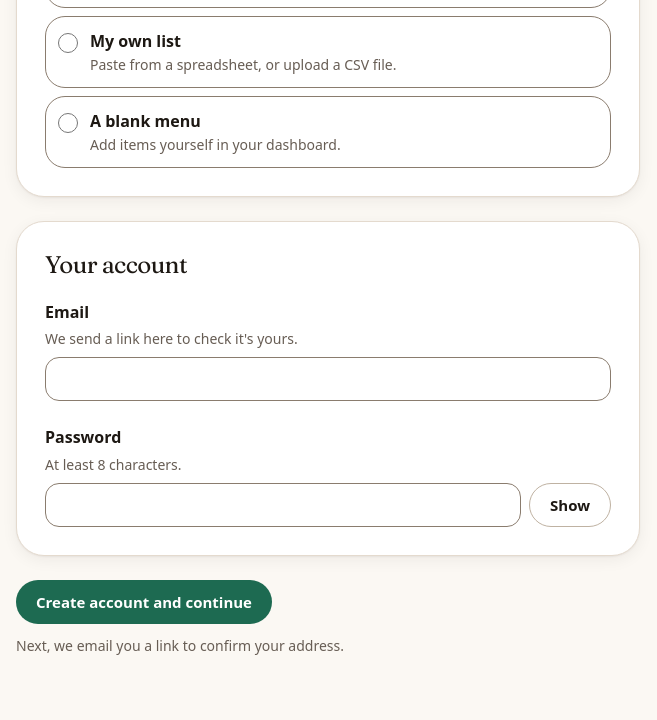
signing up › names what is missing and takes the focus to the first of it
The image size is (657, 720).
(page scrolled)
Click the button "Create account and continue" at (144, 602), box [16,580,272,624]
(page scrolled)
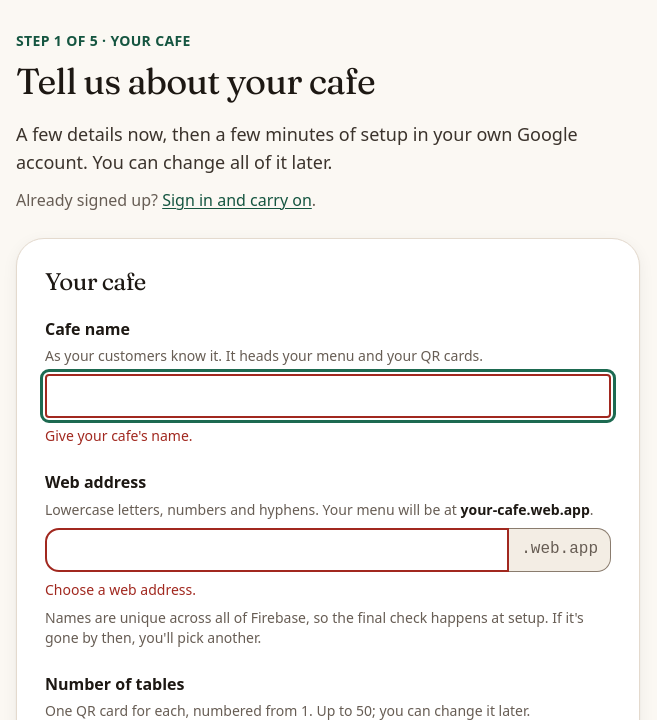
Result: the text "Give your cafe's name." is shown at [45,426,193,445]
